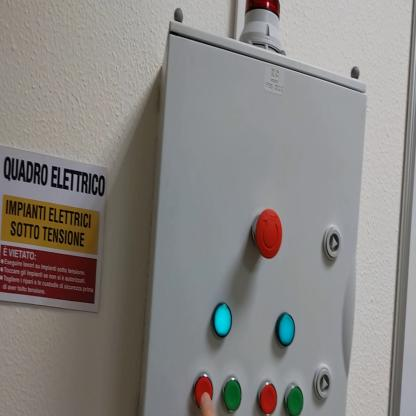hand: (201, 393, 214, 414)
left green button: (223, 375, 243, 412)
left red button: (193, 373, 215, 412)
right green button: (286, 382, 305, 412)
right red button: (260, 384, 278, 410)
